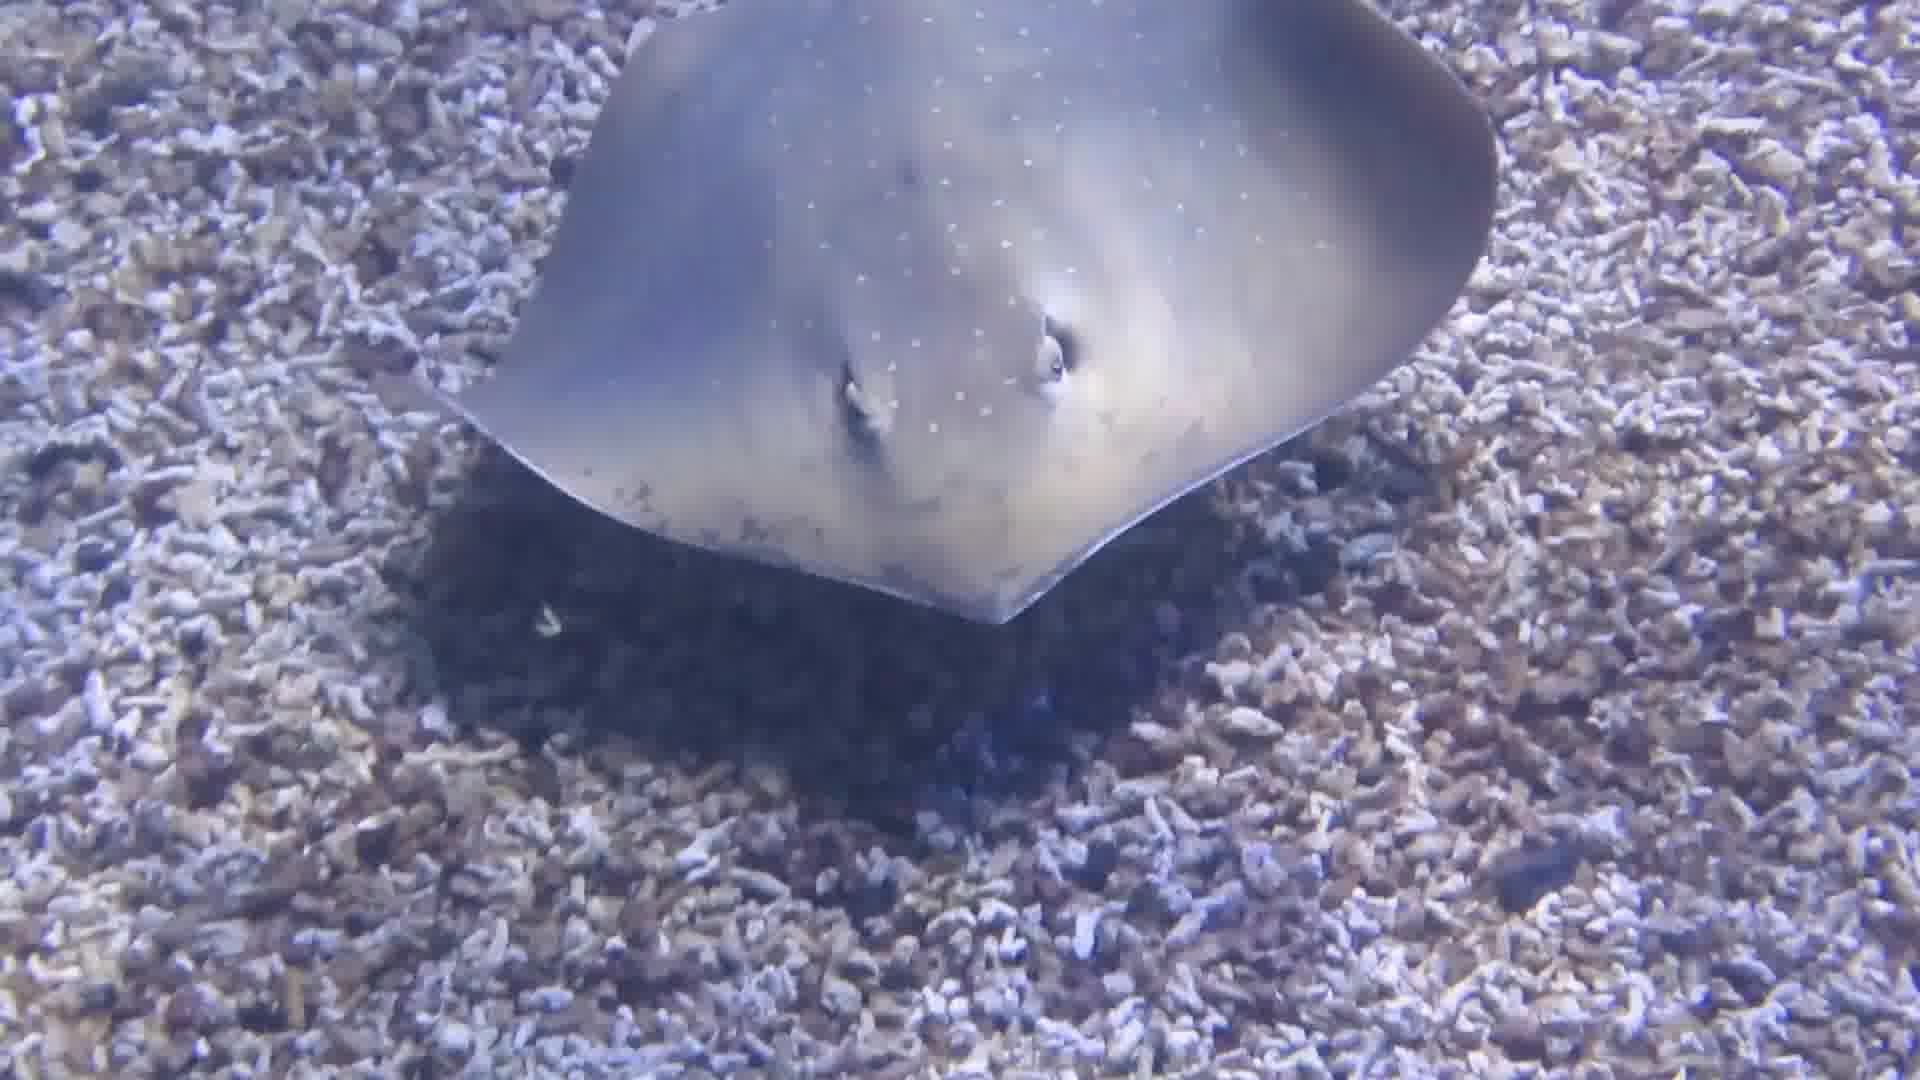Himantura gerrardi: (347, 1, 1514, 632)
